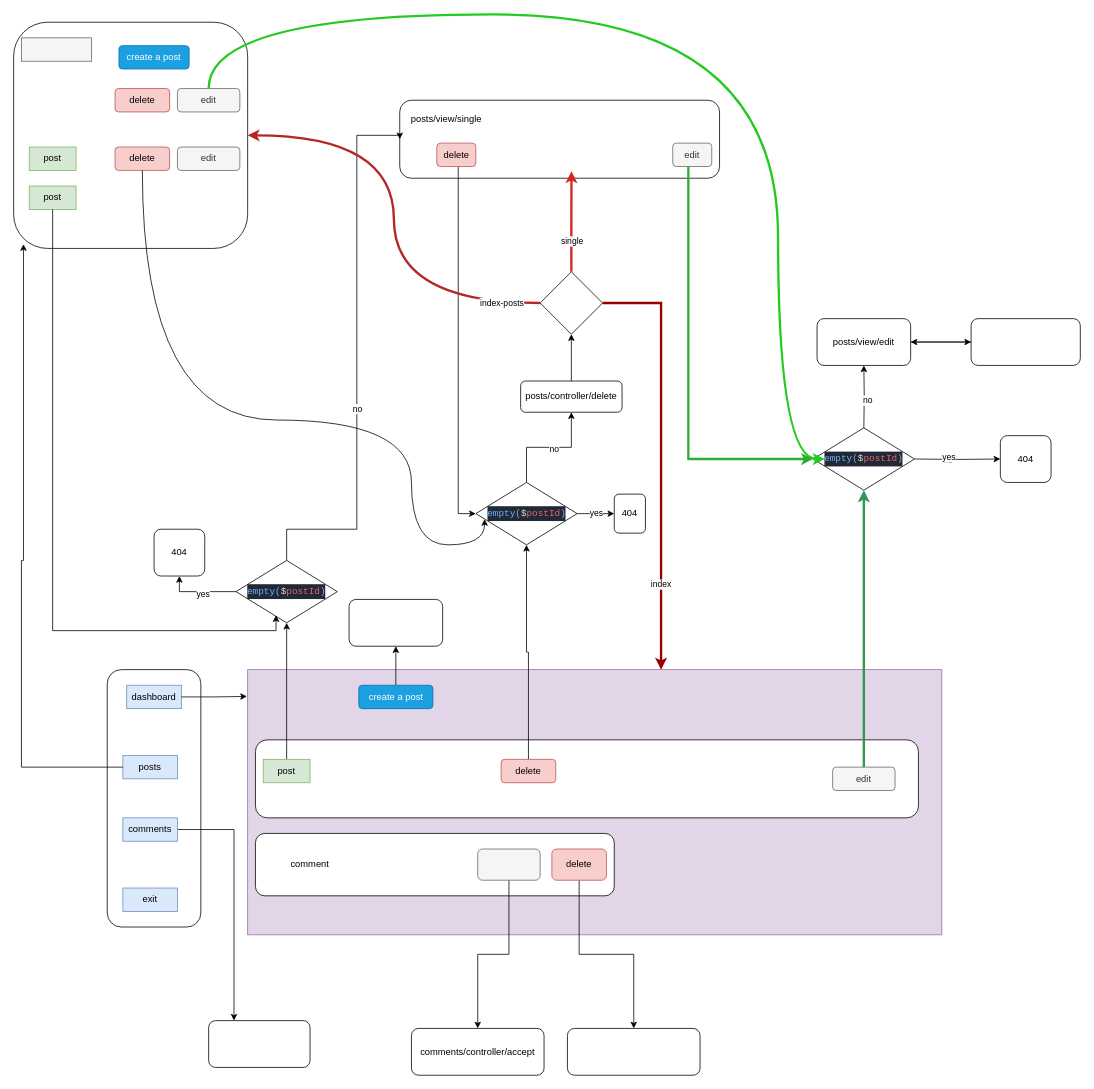
The diagram is 1094 pixels wide and 1089 high, and some of its shapes have lost their labels. The centre of each missing label's shape, as x and y in pixels:
"accept" belongs at point (508, 864).
"comments/controller/delete" belongs at point (633, 1051).
"comments/view/index" belongs at point (259, 1043).
"posts/controller/update" belongs at point (1025, 341).
"posts/view/create" belongs at point (395, 622).
"posts/view/index" belongs at point (56, 49).
"source" belongs at point (571, 302).
